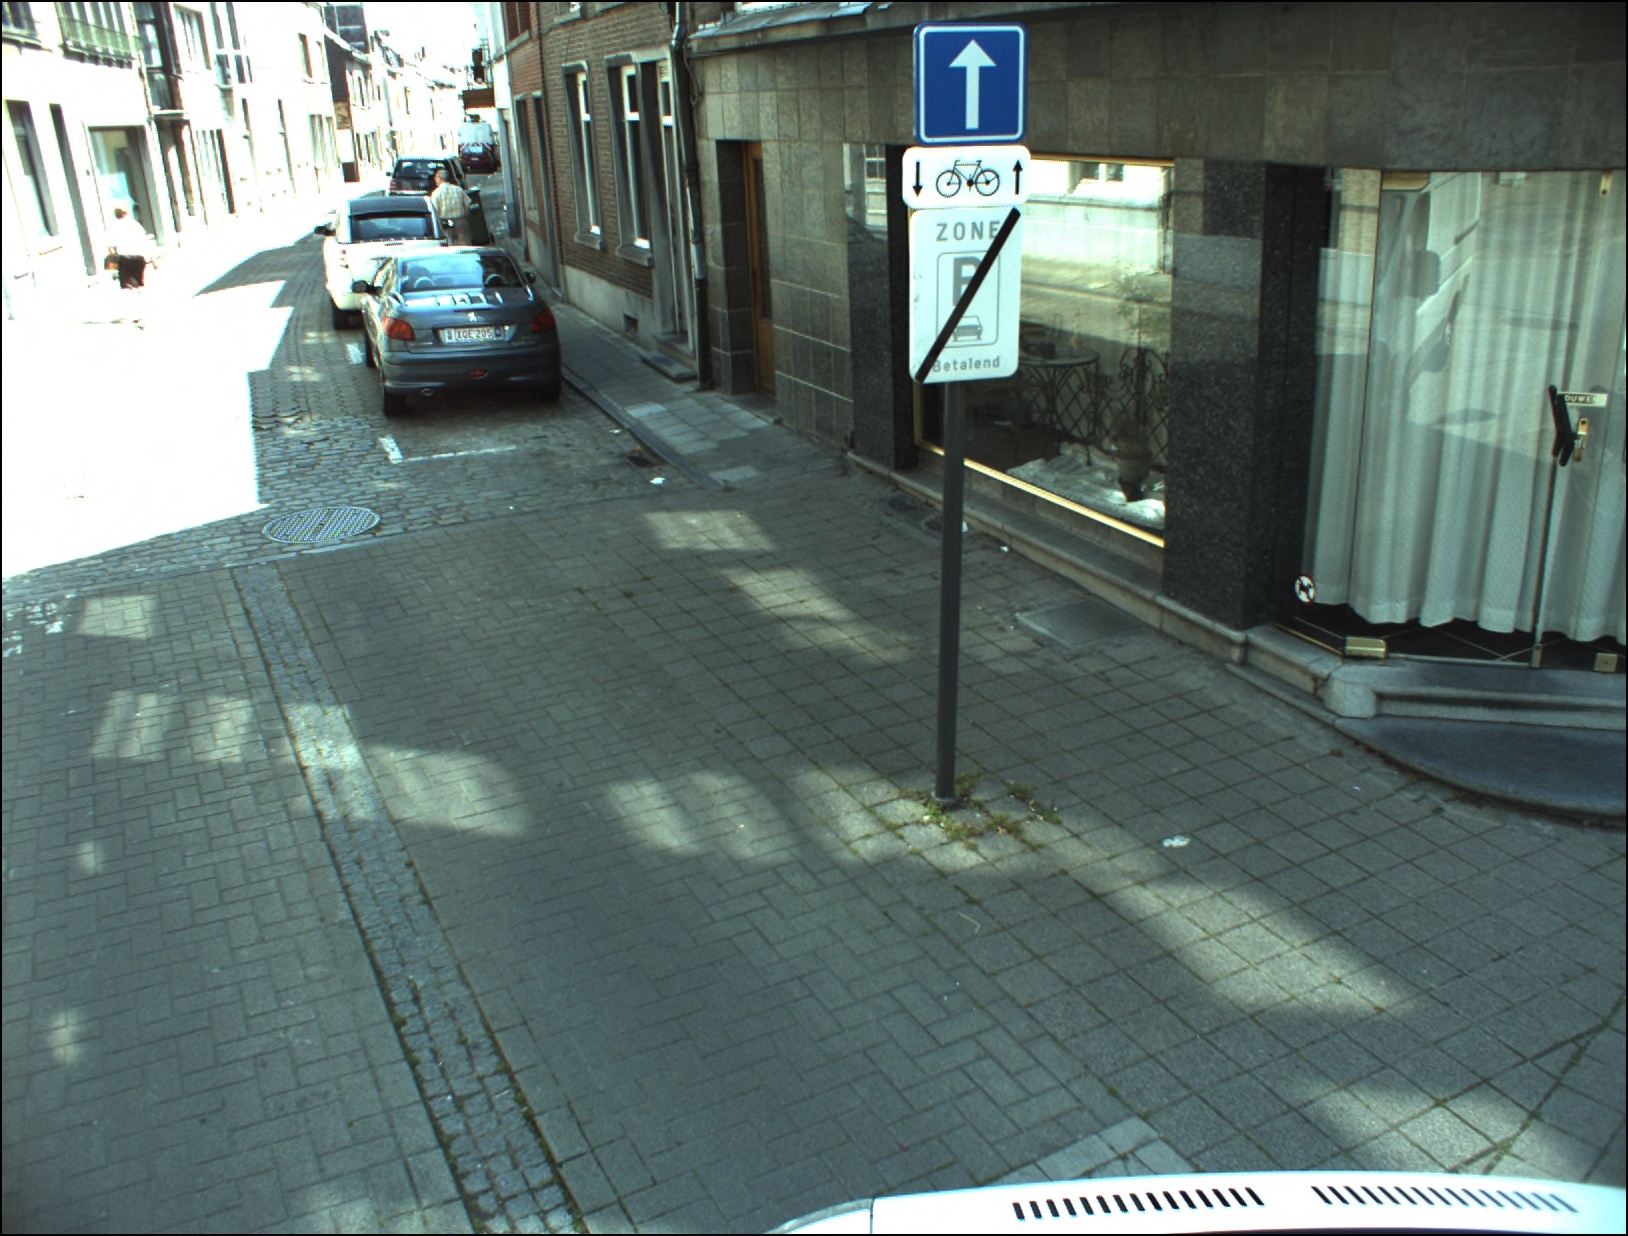oneway: (918, 29, 1024, 143)
